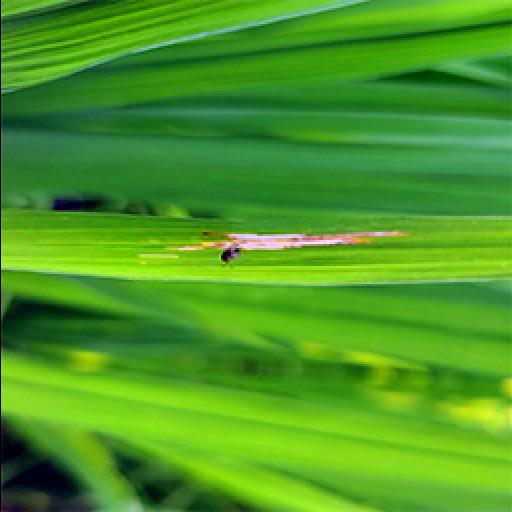Bacterial Leaf Blight: (168, 216, 418, 268)
